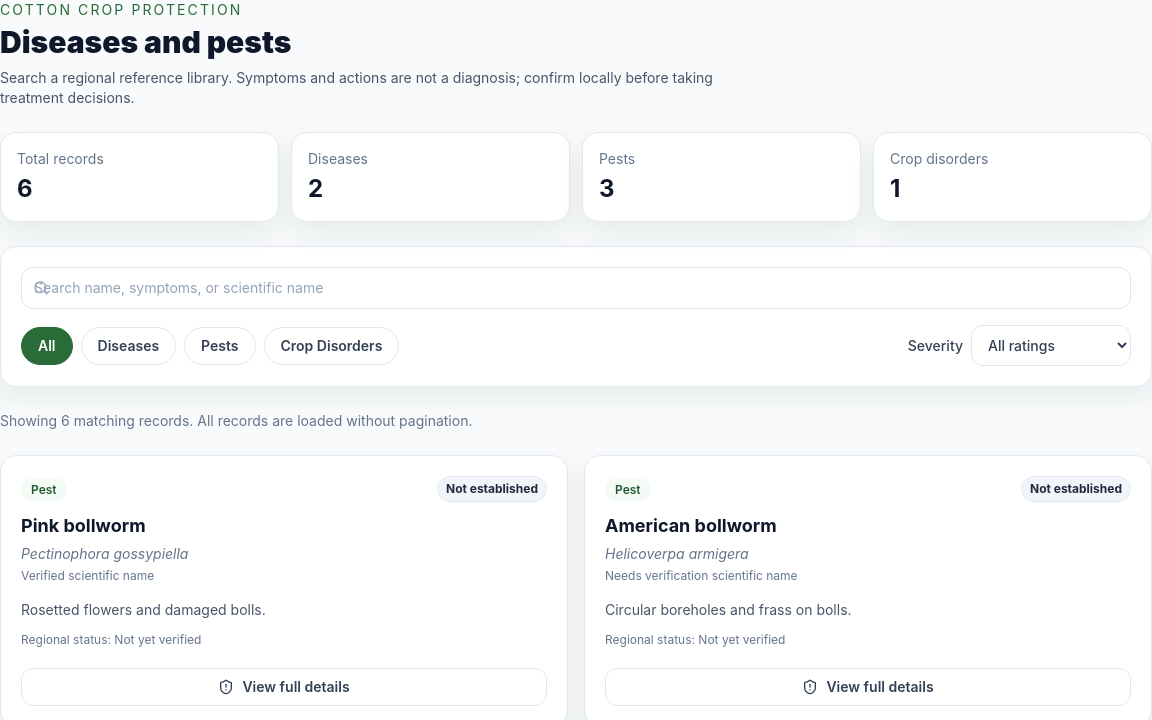
Test case: CottonIssueGuide › closes the details dialog with Escape and with a backdrop click
Click the button "View full details" below "Rosetted flowers and damaged bolls." at x=284, y=687, box [21,668,547,706]
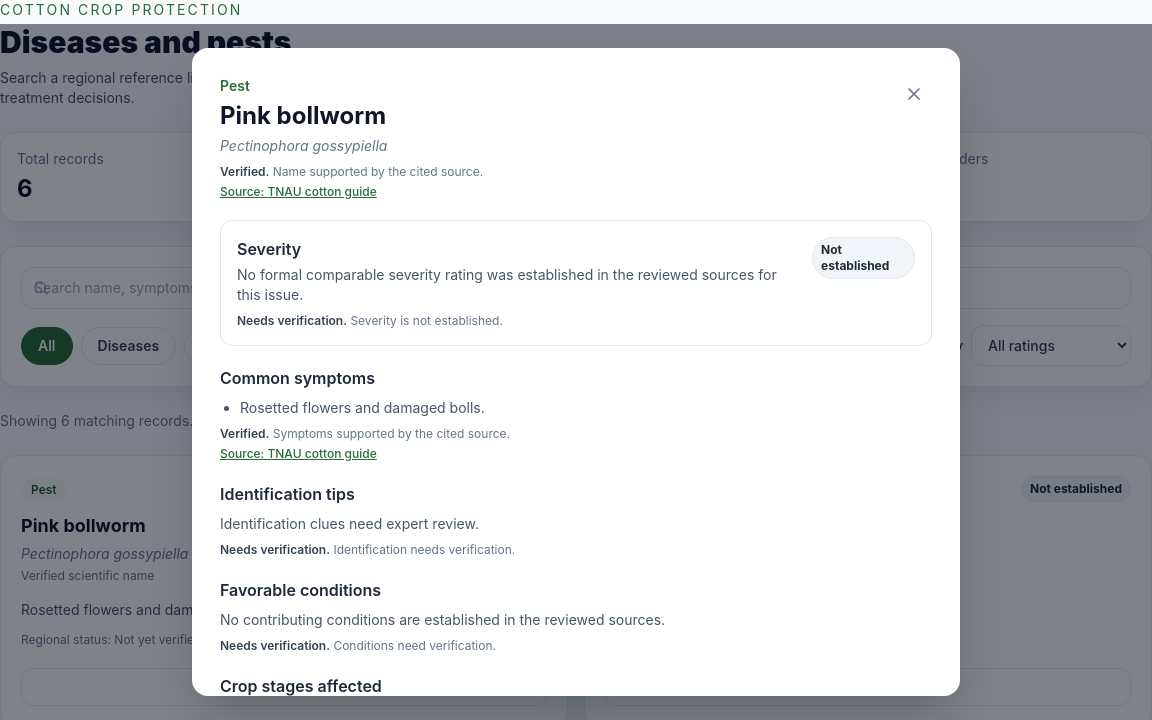
Press Escape
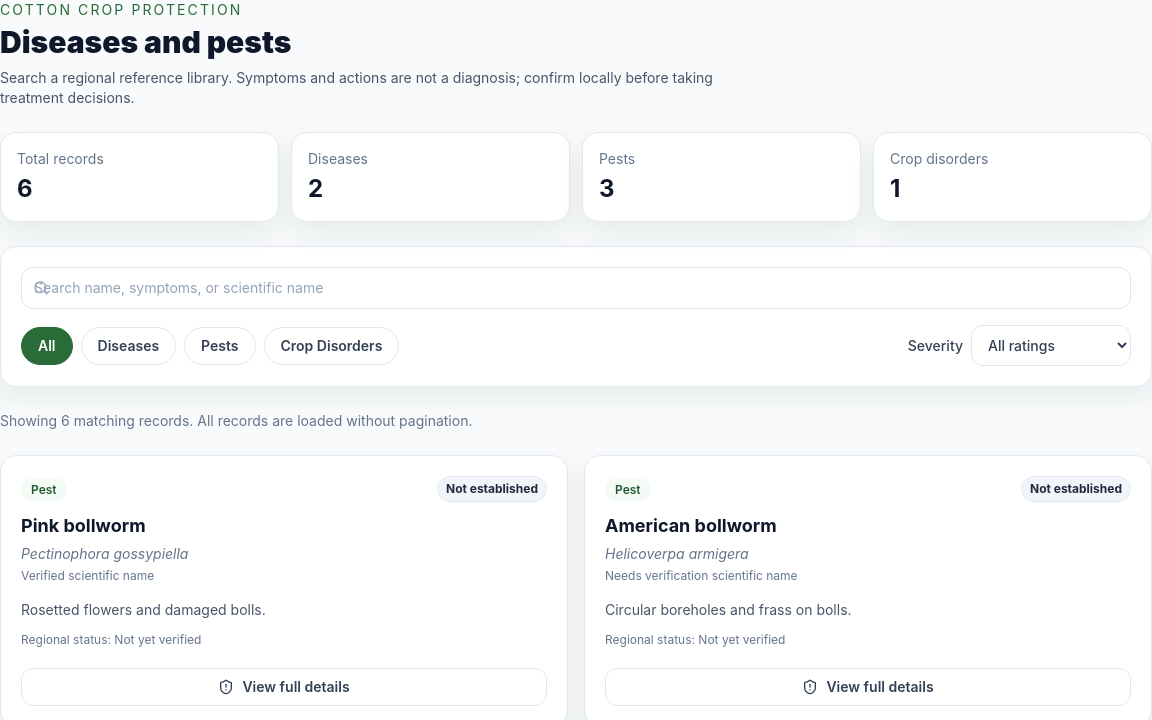
Expected: the dialog is gone
Click the button "View full details" below "Rosetted flowers and damaged bolls." at x=284, y=687, box [21,668,547,706]
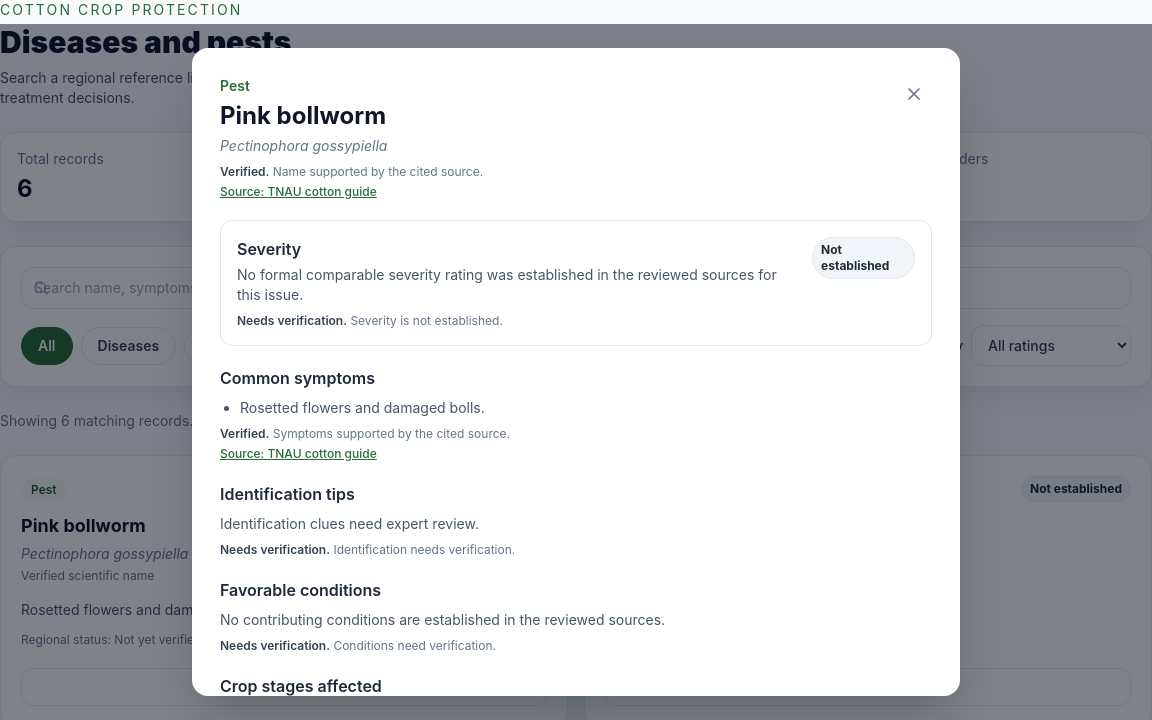
Click the element that starts with "Pest" at x=69, y=372, box [0,24,1151,719]
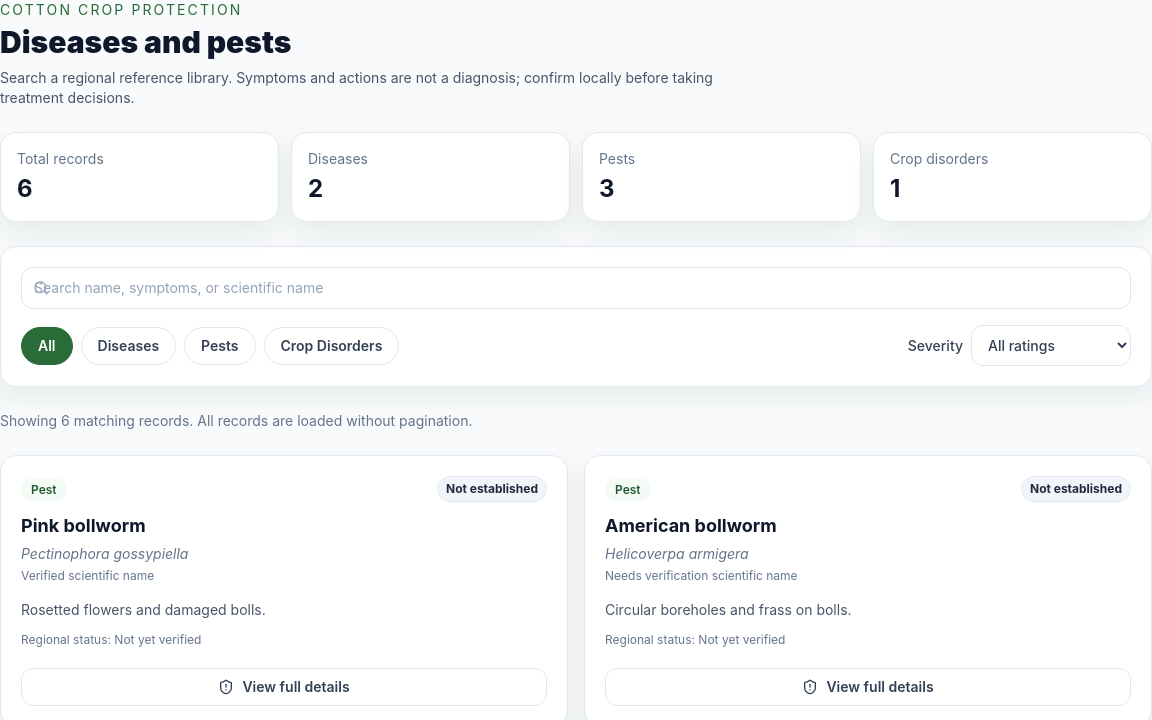
Expected: the dialog is gone
